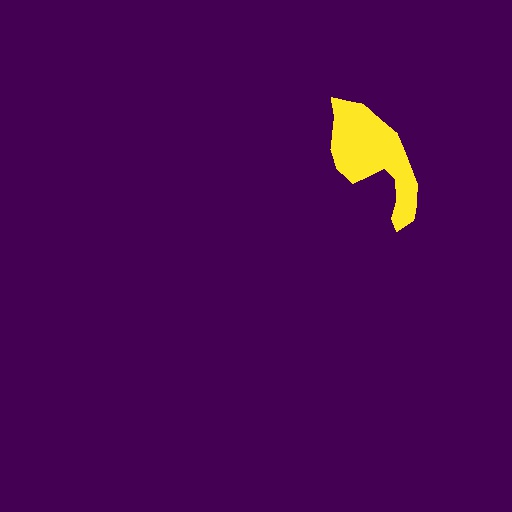Gliomia_tumour: (330, 97, 418, 232)
